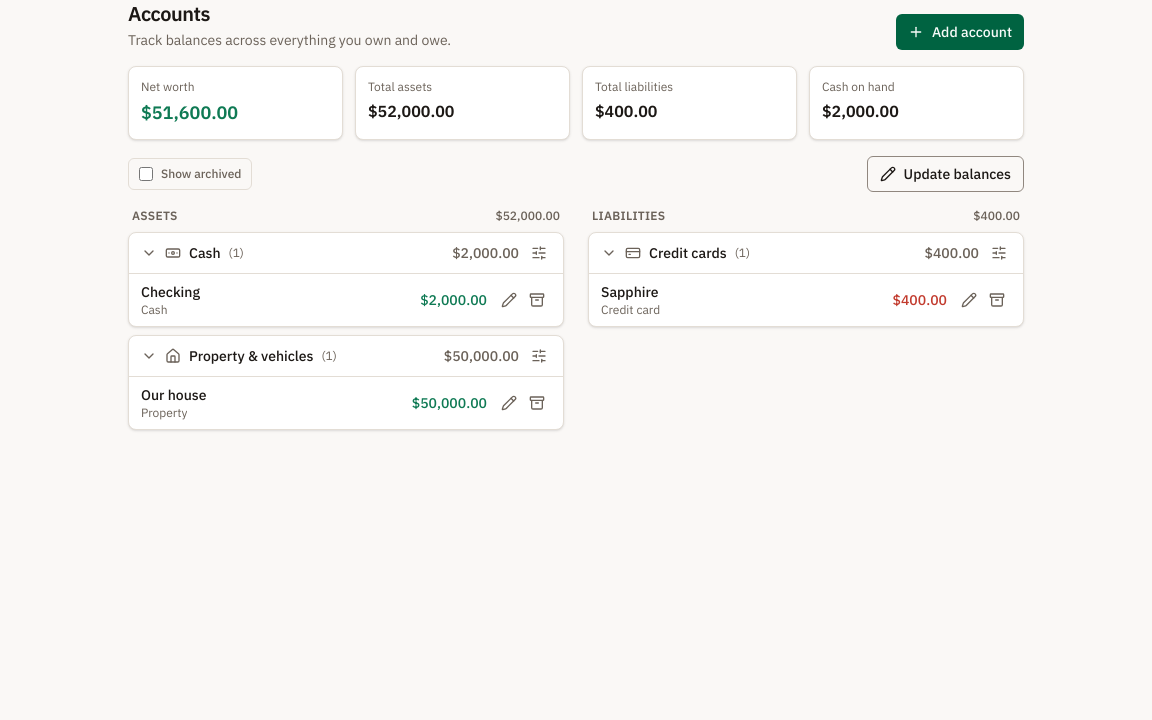
clicking an account row opens the editor for that account
Click the text "Our house" at (174, 395), box x1=141 y1=385 x2=206 y2=405
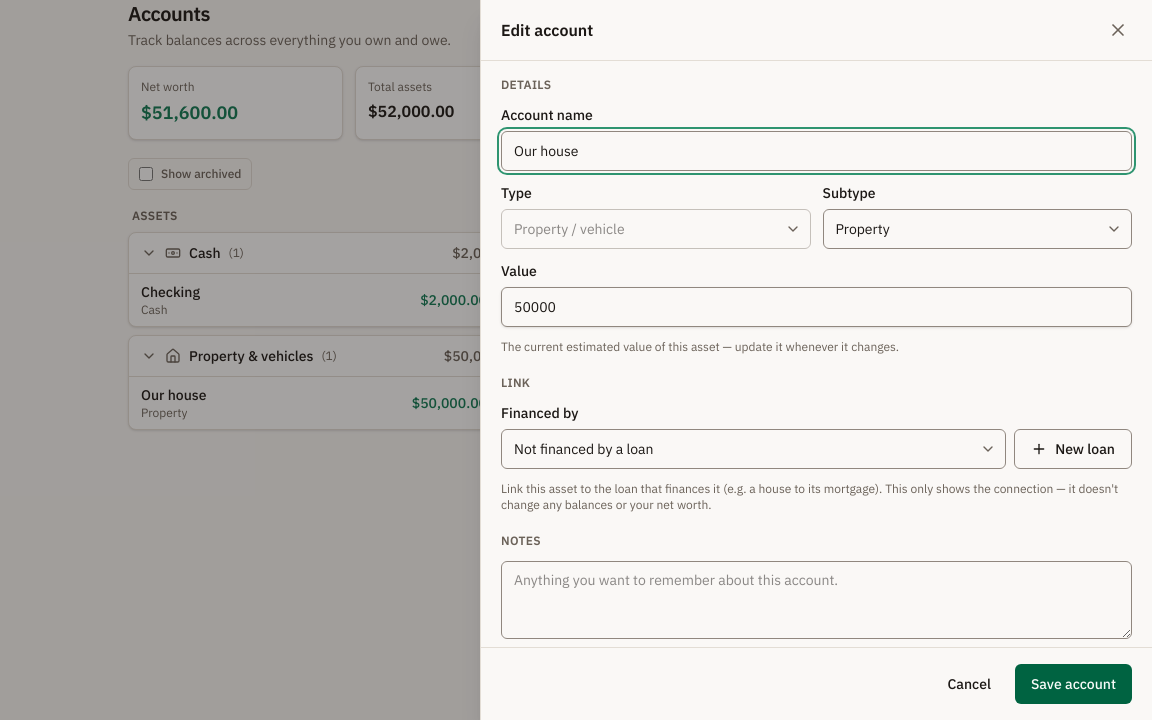
Result: the text "Value" is shown at x1=501 y1=262 x2=537 y2=280
